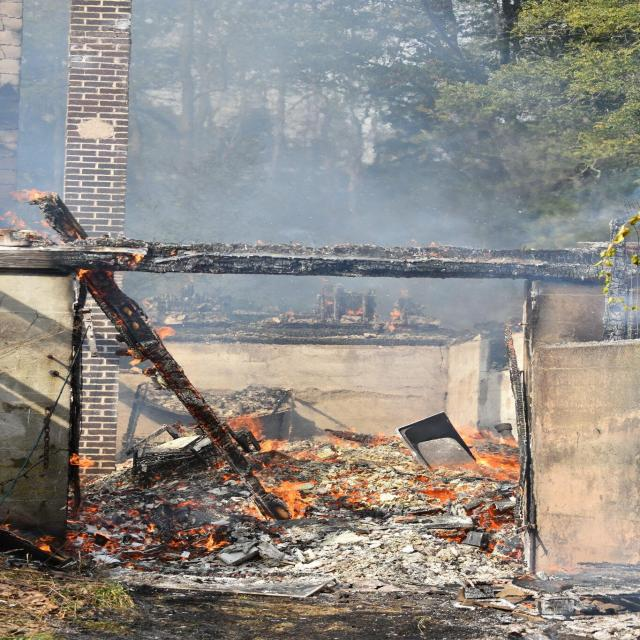fire: (18, 182, 165, 355), (59, 442, 201, 560), (209, 404, 328, 532), (336, 416, 401, 514), (431, 506, 529, 568), (459, 424, 528, 482), (408, 480, 461, 509)
